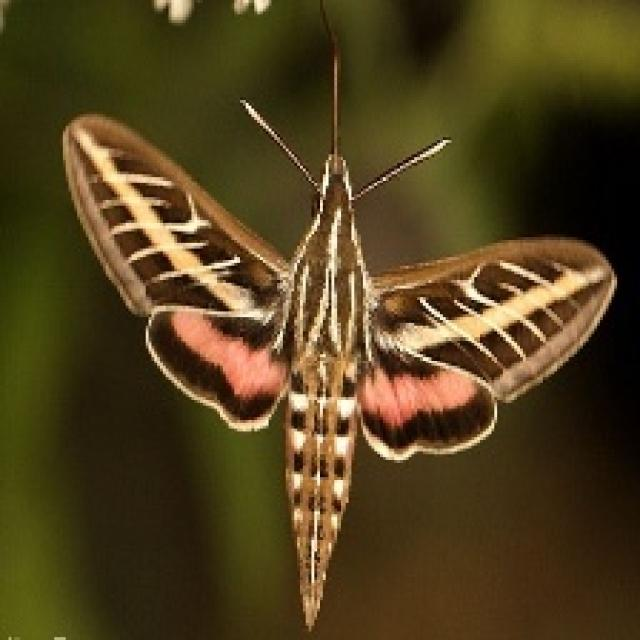butterfly: (57, 0, 617, 631)
